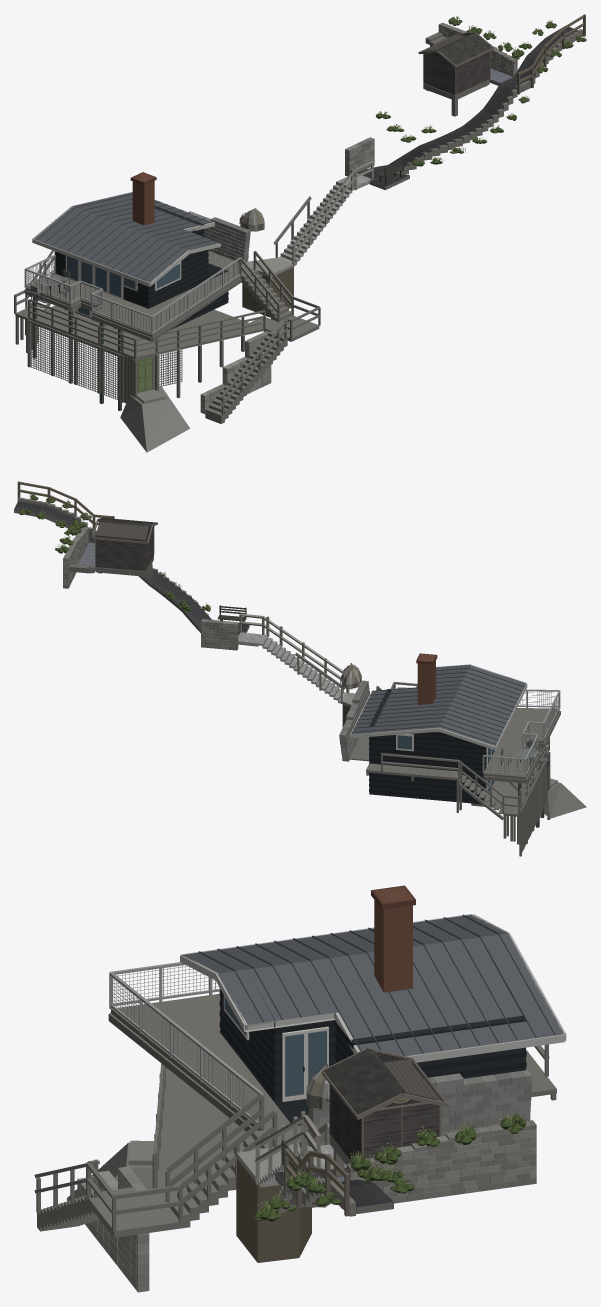
File: 389-cabin.glb
The picture shows the model from 3 angles, top to bottom: view 1: azimuth 30°, elevation 25°; view 2: azimuth 150°, elevation 25°; view 3: azimuth 270°, elevation 25°; orthographic projection. The views are drawn at different scales.
Visible parts, largest first — view 1: Cabin and access; view 2: Cabin and access; view 3: Cabin and access.
Boxes of the visible parts, bbox=[...] form: Cabin and access: bbox=[14, 14, 586, 452]; Cabin and access: bbox=[14, 481, 586, 856]; Cabin and access: bbox=[34, 885, 566, 1292].
Size of the model in its own units: 34.34 by 15.61 by 14.74.
Materials: 5 (2 with a texture image).
